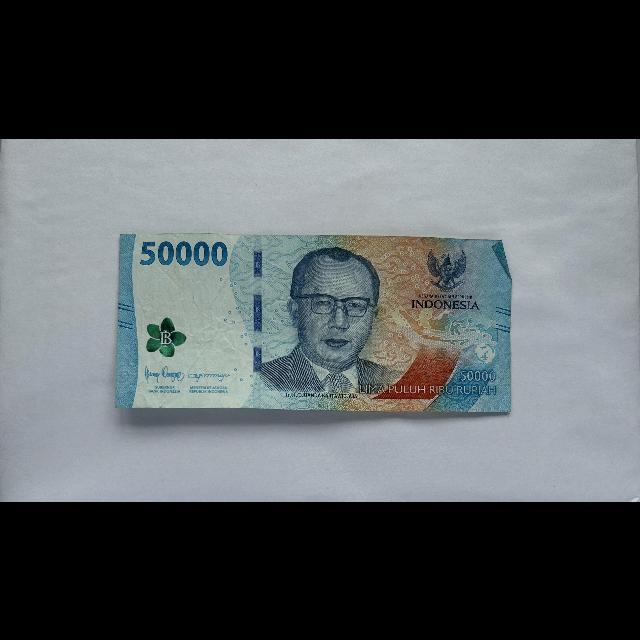Asli-50k: (115, 232, 513, 413)
Tinta-Asli-50k: (145, 315, 187, 358)
